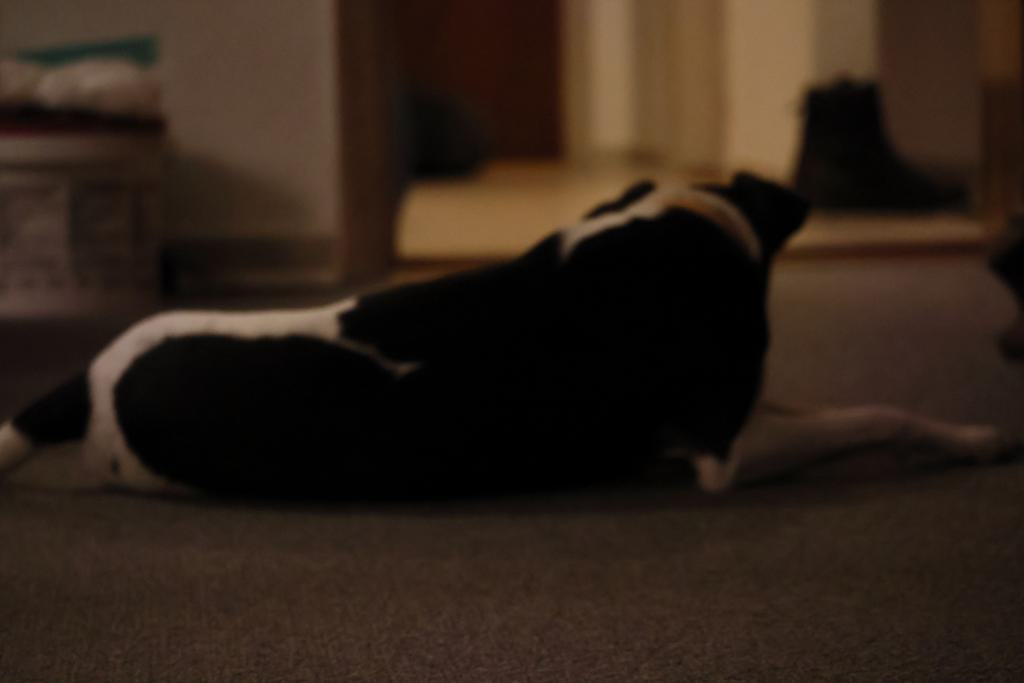Dog: (0, 161, 1024, 517)
